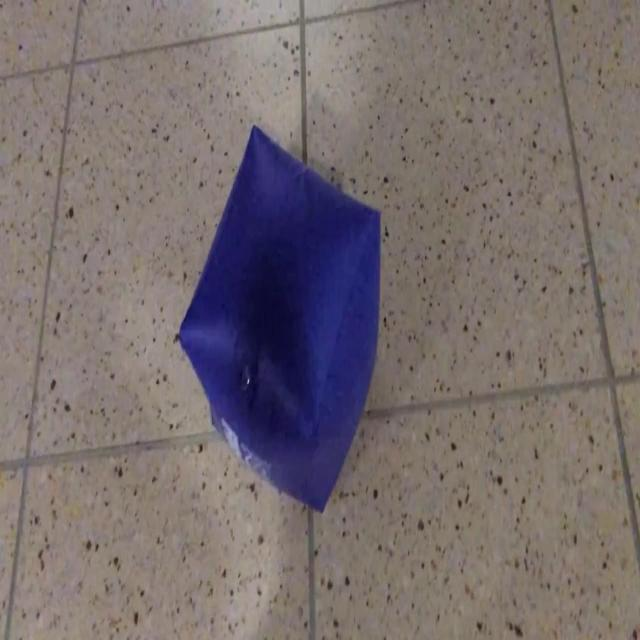frc_cube: (177, 116, 383, 506)
